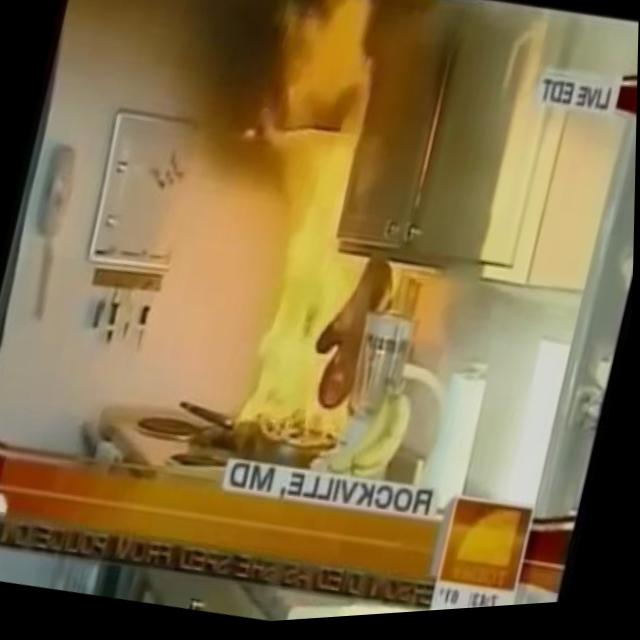fire: (205, 125, 419, 461)
